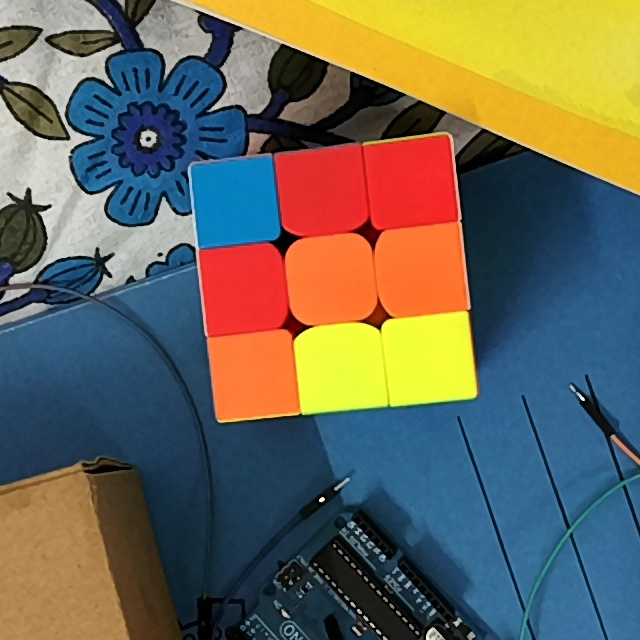tile: (376, 144, 450, 218), (384, 235, 459, 307), (393, 323, 468, 393), (200, 165, 271, 236), (214, 341, 289, 408), (295, 245, 368, 313), (284, 157, 358, 224), (209, 251, 278, 322), (305, 335, 377, 401)
